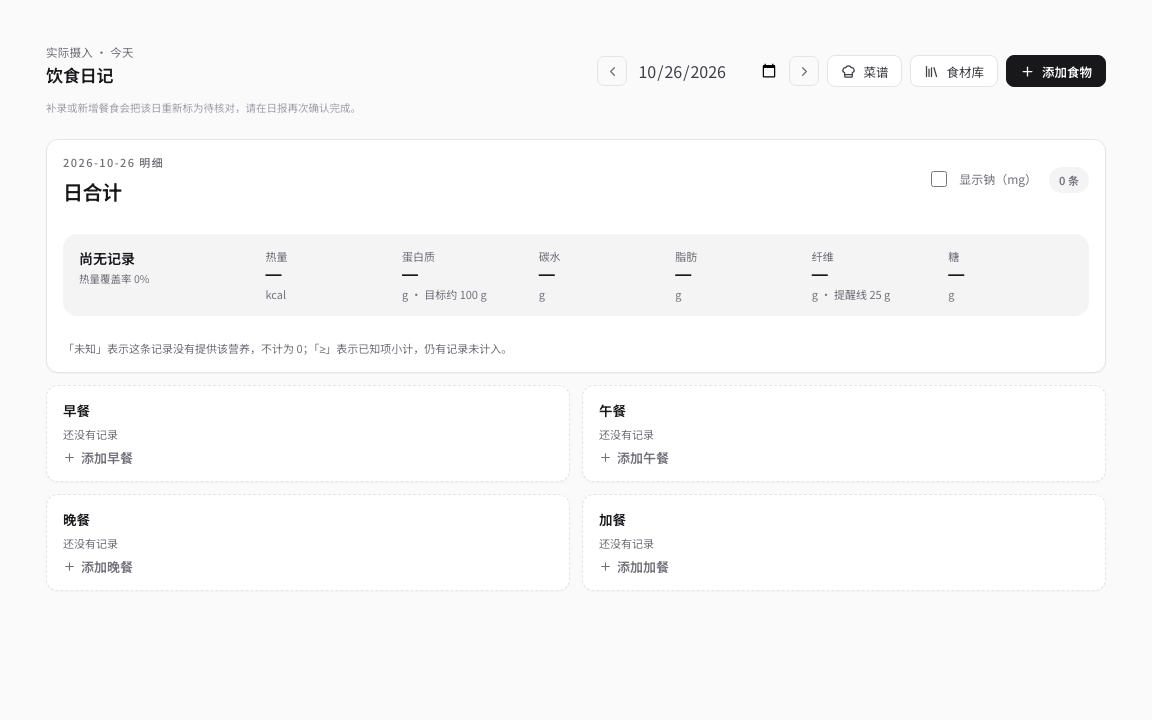
Test case: collapses the drawer before opening the recipe editor so only one overlay is visible
What coordinates should you click on to do the following:
click the button with class "food-recipe-btn"
I would click on:
 (865, 71)
Its box is x1=827 y1=55 x2=902 y2=87.
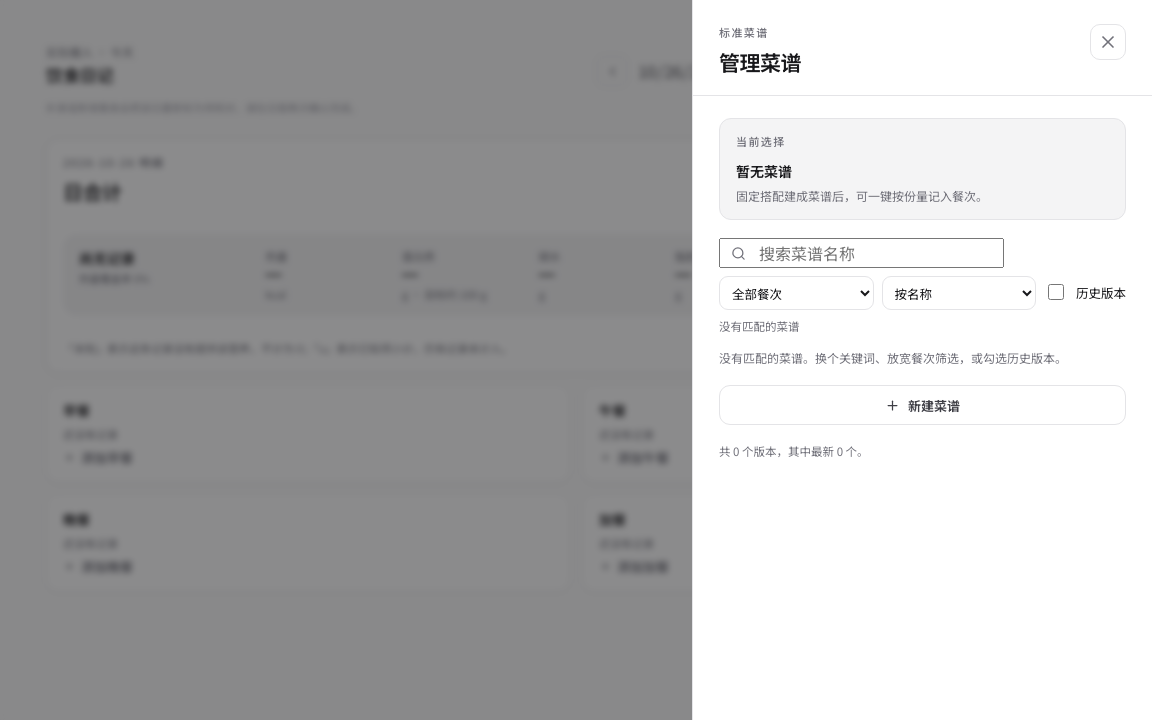
Check: the dialog with class "drawer" is shown, box x1=692 y1=0 x2=1151 y2=719
What coordinates should you click on to do the following:
click the button "新建菜谱"
I would click on:
 (922, 405)
Its box is x1=719 y1=385 x2=1126 y2=425.
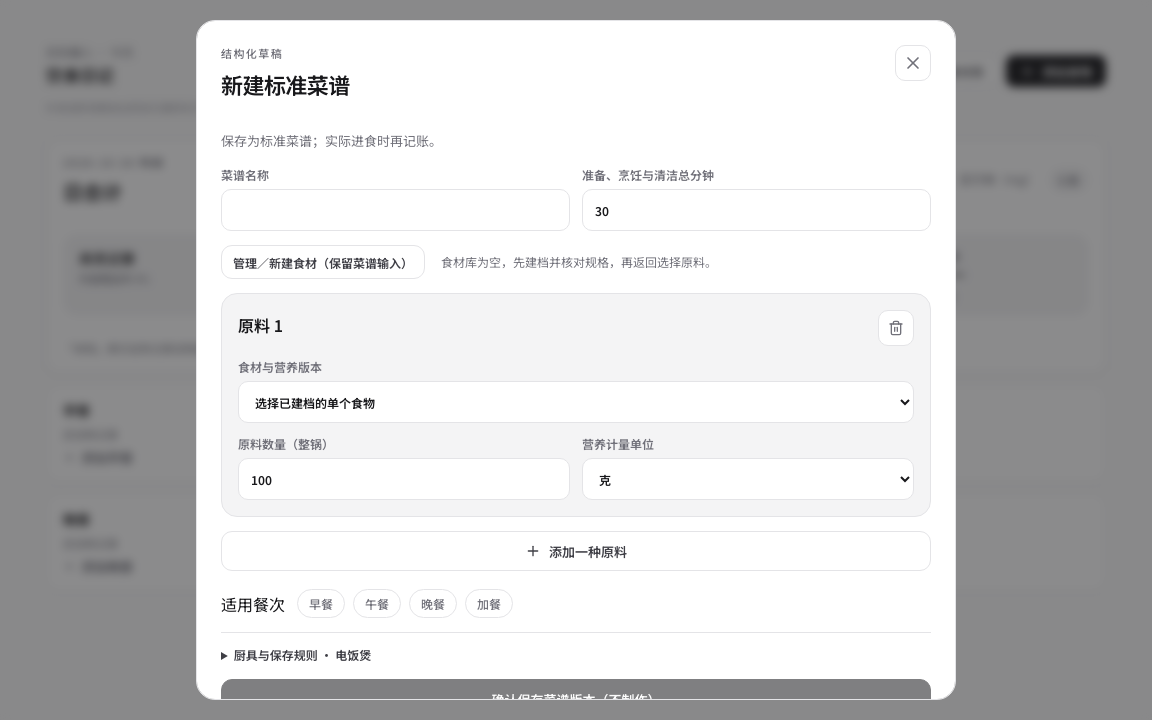
Check: the dialog with class "drawer" is gone
Check: the element with class "modal-backdrop" is shown
